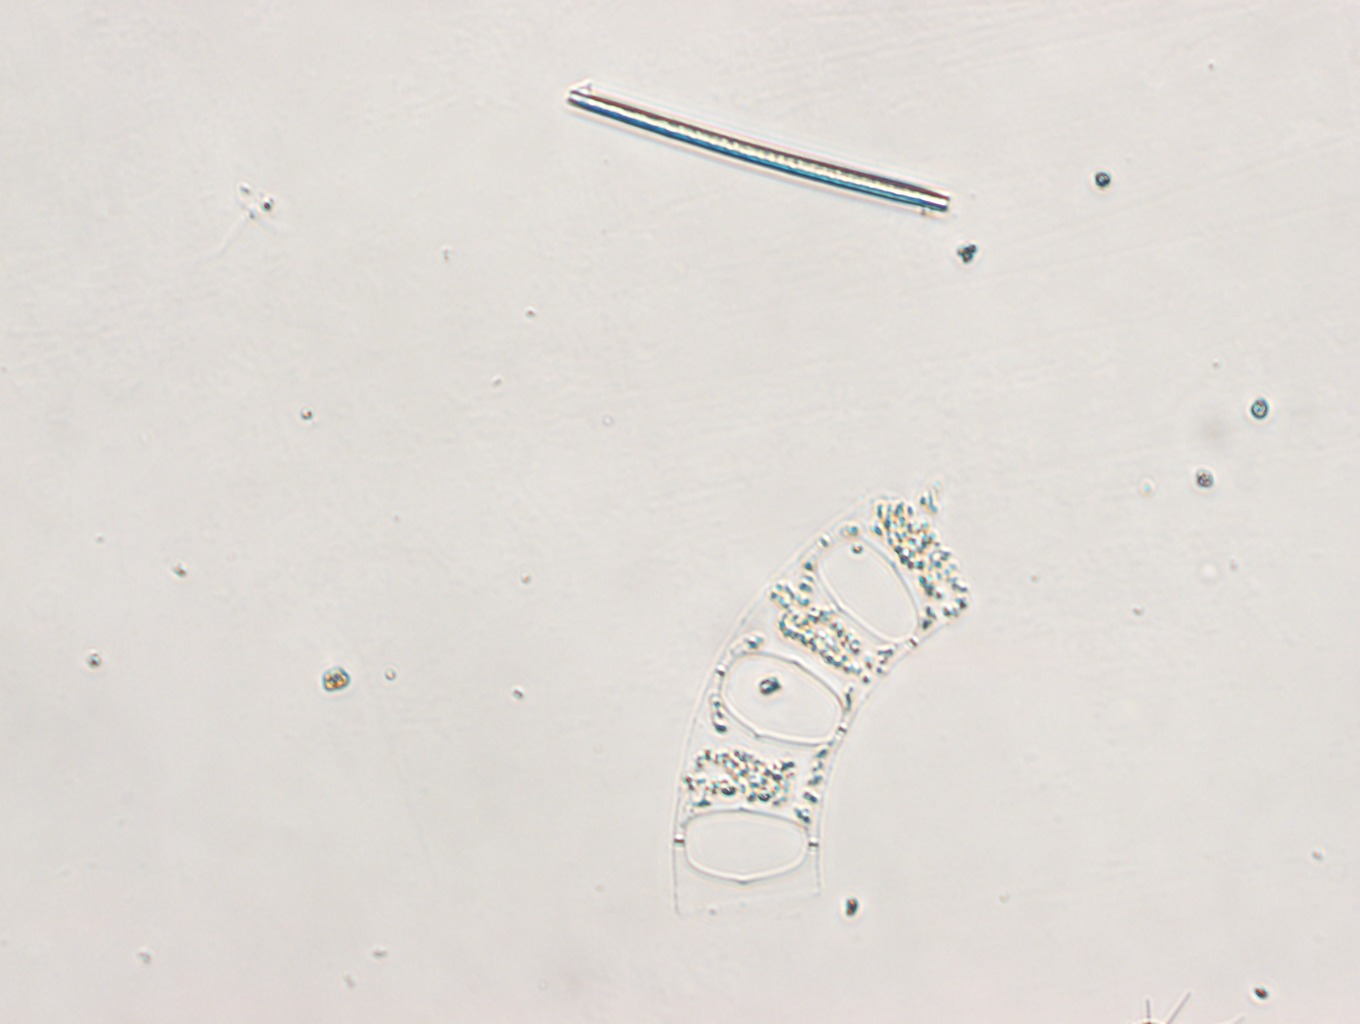eucampia: (671, 480, 976, 935)
thalassionema frauenfeldii: (566, 88, 954, 221)
